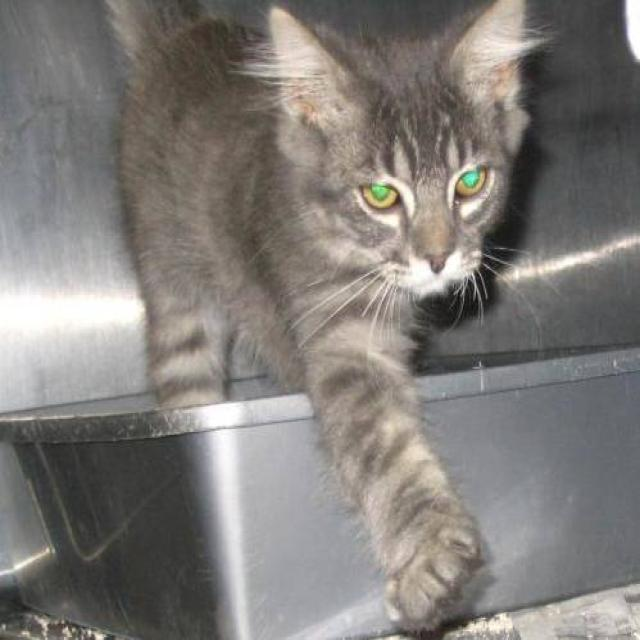cat: (99, 0, 555, 634)
